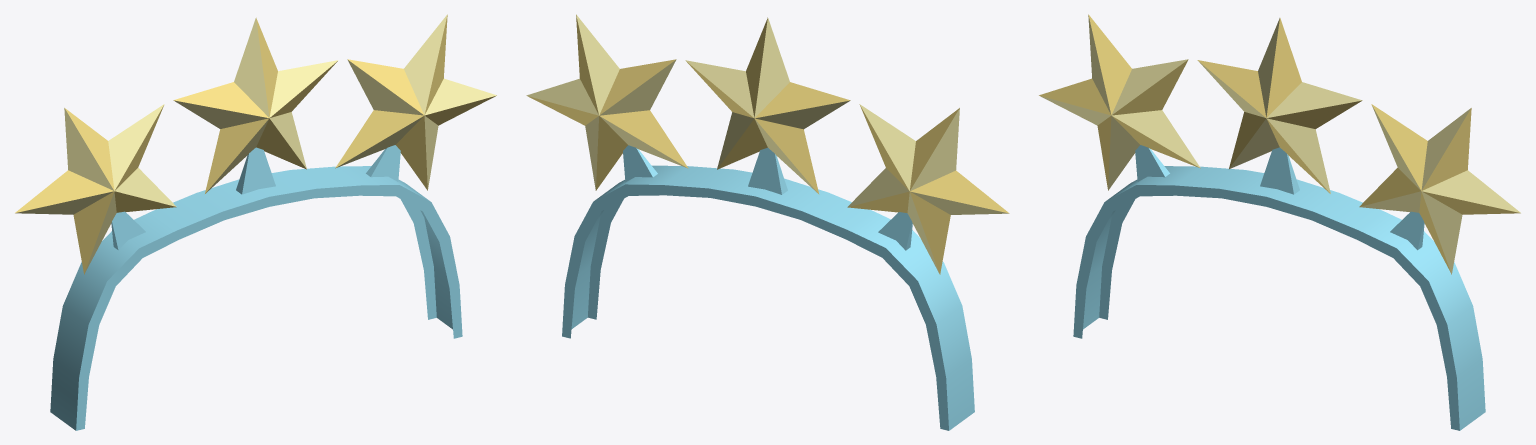
Rendered from top_acc_18.FBX.
The picture shows the model from 3 angles, left to right: view 1: azimuth 30°, elevation 25°; view 2: azimuth 150°, elevation 25°; view 3: azimuth 330°, elevation 25°; orthographic projection.
Parts seen in each view (by area): view 1: top_acc_18; view 2: top_acc_18; view 3: top_acc_18.
Boxes of the visible parts, x1,y1,x2,y2 form: top_acc_18: [15, 14, 496, 430]; top_acc_18: [526, 14, 1009, 430]; top_acc_18: [1039, 14, 1520, 430].
Bounding box in the file's own units: 33.46 × 23.62 × 3.25.
